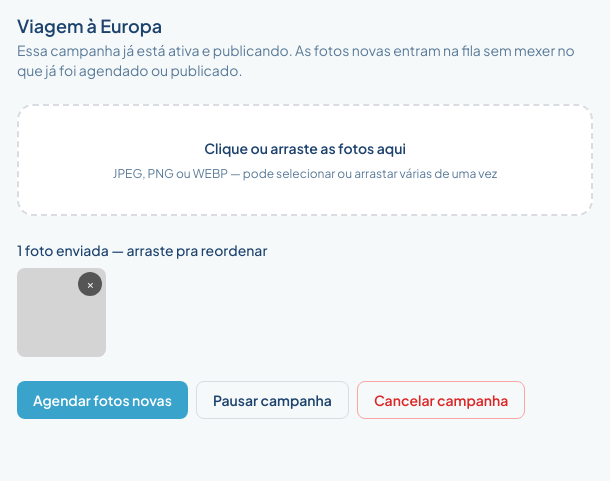
Test: CampaignUploadPage › campanha já ativa (fotos a qualquer momento) › mostra o erro do backend quando não há fotos novas pra agendar
Click the button "Agendar fotos novas".
click(102, 400)  # box [17,381,188,419]
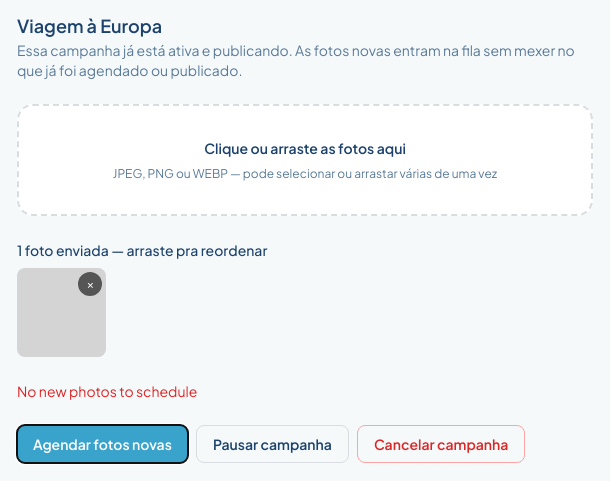
Check: the text "No new photos to schedule" is shown, box [17,382,197,400]
